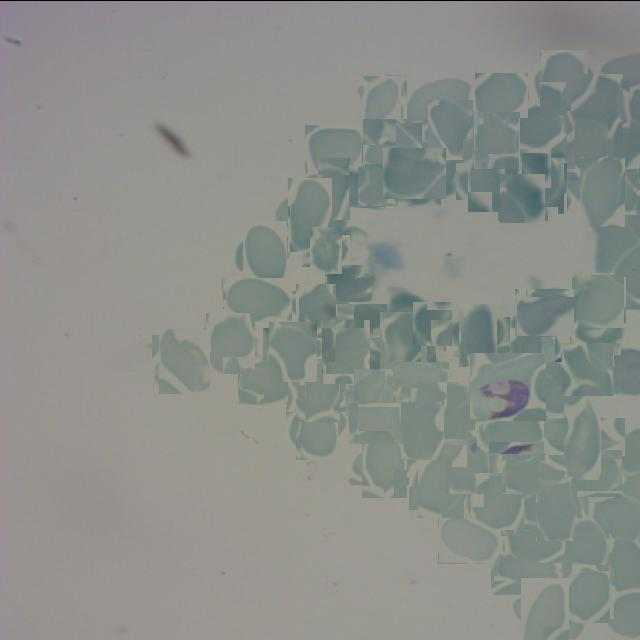leukocyte: (552, 405, 614, 467), (280, 184, 340, 244), (155, 330, 214, 390), (401, 76, 474, 124), (355, 432, 414, 491), (568, 76, 626, 136), (513, 585, 576, 640), (469, 474, 527, 533), (490, 548, 562, 595), (386, 144, 444, 202), (574, 162, 632, 220), (414, 384, 472, 442), (374, 315, 432, 372), (318, 322, 374, 379), (222, 277, 292, 322), (536, 54, 592, 110), (202, 314, 258, 370), (560, 116, 616, 172), (305, 124, 367, 173), (478, 408, 544, 454), (413, 458, 468, 513), (362, 118, 422, 168), (238, 224, 292, 279), (558, 565, 612, 620), (266, 324, 321, 378), (440, 435, 494, 489), (438, 517, 501, 563), (514, 288, 574, 336), (424, 102, 477, 156), (563, 449, 622, 497), (292, 363, 345, 416), (290, 402, 344, 454), (530, 481, 582, 534), (503, 518, 565, 562), (517, 157, 569, 209), (471, 114, 523, 166), (573, 275, 625, 327), (562, 342, 614, 394), (501, 454, 567, 494), (397, 405, 448, 456), (452, 310, 503, 360), (560, 518, 610, 568), (462, 156, 512, 206), (511, 103, 566, 148), (475, 72, 528, 117), (310, 164, 358, 212), (292, 286, 340, 334), (384, 361, 449, 396), (348, 402, 402, 444), (358, 76, 406, 123), (512, 323, 559, 370), (350, 372, 397, 419), (499, 174, 546, 221), (536, 364, 582, 412), (238, 360, 288, 404), (348, 162, 398, 206), (570, 314, 622, 355), (326, 264, 372, 304), (336, 302, 387, 338), (411, 302, 453, 344), (306, 230, 346, 270)
schizont: (470, 352, 546, 420)
